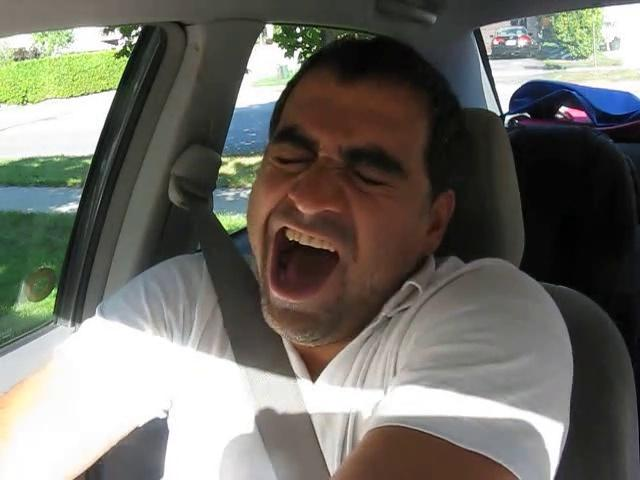close_eyeL: (265, 139, 321, 182)
close_eyeR: (331, 151, 409, 203)
yawn: (246, 213, 361, 307)
